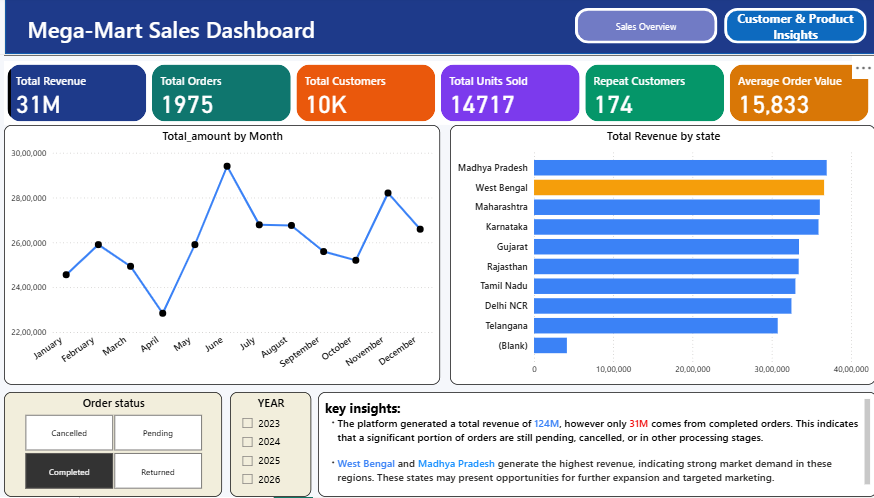

What the dashboard file says about the page in this screenshot:
{"tool":"powerbi","page":{"name":"Sales Overview","canvas":[1280,720],"ordinal":0},"visuals":[{"type":"shape","box":[11.8,0,1256.5,84],"z":0,"group":"g1"},{"type":"shape","box":[11.8,0,1256.5,84],"z":0,"group":"g2"},{"type":"textbox","box":[0,18.5,551,65.5],"z":1000,"group":"g2"},{"type":"lineChart","title":"Total_amount by Month","fields":{"Y":["Sum(megamart_db orders.total_amount)"],"Category":["megamart_db orders.order_date.Variation.Date Hierarchy.Month"]},"box":[11.5,184.3,627.8,374.4],"z":8000},{"type":"clusteredBarChart","fields":{"Category":["megamart_db customers.state"],"Y":["_measures.Total Revenue"]},"box":[653.8,184.3,613.4,374.4],"z":9000},{"type":"slicer","title":"Order status","fields":{"Values":["megamart_db orders.order_status"]},"box":[11.5,568.8,313.9,151.2],"z":10000},{"type":"textbox","box":[463.6,569.4,804.6,151.2],"z":11000},{"type":"cardVisual","fields":{"Data":["_measures.Total Revenue","_measures.Total Orders","_measures.Total Customers","_measures.Total Units Sold","_measures.Repeat Customers","_measures.Average Order Value"]},"box":[11.5,92.2,1255.7,92.2],"z":12000},{"type":"pageNavigator","box":[833.8,15.8,421.9,51.8],"z":12001,"group":"g1"},{"type":"pageNavigator","box":[833.8,15.8,421.9,51.8],"z":12001,"group":"g2"},{"type":"slicer","title":"YEAR","fields":{"Values":["megamart_db orders.order_date.Variation.Date Hierarchy.Year"]},"box":[337,568.8,116.6,151.2],"z":12002},{"type":"group","id":"g1","title":"Group 1","box":[11.8,0,1256.5,84],"z":12003},{"type":"group","id":"g2","title":"Group 1","box":[0,0,1268.2,84],"z":12004}]}

Visuals, with their boxes in screenshot pixels (x1, y1, x2, y2), scaled from the page's 1280x720 canvas onto the 874x498 screenshot:
shape: <bbox>8, 0, 866, 58</bbox>
shape: <bbox>8, 0, 866, 58</bbox>
textbox: <bbox>0, 13, 376, 58</bbox>
"Total_amount by Month" lineChart: <bbox>8, 127, 437, 386</bbox>
clusteredBarChart - megamart_db customers.state x _measures.Total Revenue: <bbox>446, 127, 865, 386</bbox>
"Order status" slicer: <bbox>8, 393, 222, 497</bbox>
textbox: <bbox>317, 394, 866, 497</bbox>
cardVisual - _measures.Total Revenue x _measures.Total Orders: <bbox>8, 64, 865, 128</bbox>
pageNavigator: <bbox>569, 11, 857, 47</bbox>
pageNavigator: <bbox>569, 11, 857, 47</bbox>
"YEAR" slicer: <bbox>230, 393, 310, 497</bbox>
"Group 1" group: <bbox>8, 0, 866, 58</bbox>
"Group 1" group: <bbox>0, 0, 866, 58</bbox>
